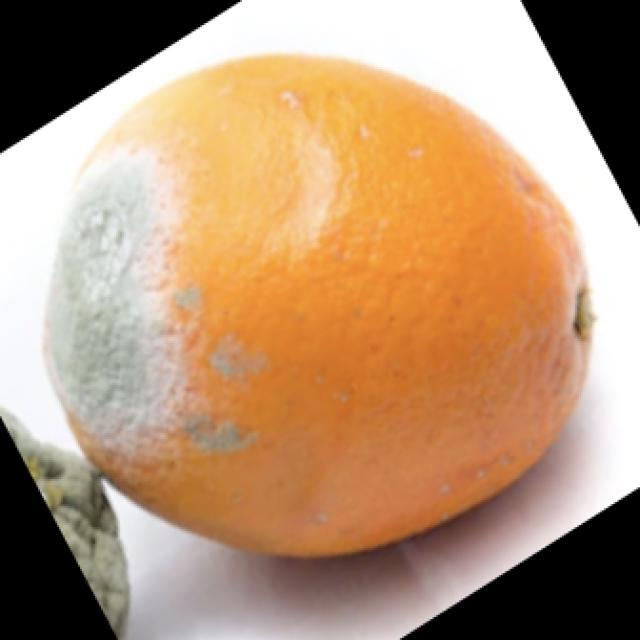sedikit-busuk: (46, 55, 588, 555), (47, 155, 163, 438)
